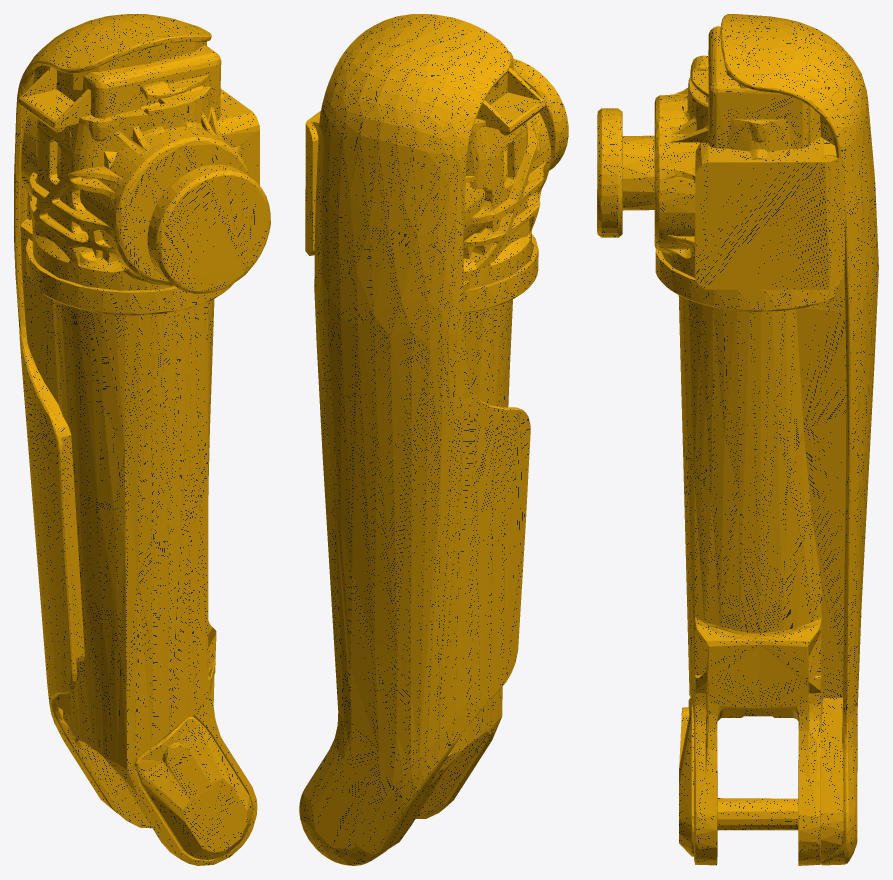
Rendered from rear_left_upper_leg.obj.
3 views of the same model, side by side, from view 1: azimuth 30°, elevation 25°; view 2: azimuth 150°, elevation 25°; view 3: azimuth 270°, elevation 25° (orthographic). The views are drawn at different scales.
Parts seen in each view (by area): view 1: rear_left_upper_leg; view 2: rear_left_upper_leg; view 3: rear_left_upper_leg.
Boxes of the visible parts, bbox=[...] form: rear_left_upper_leg: bbox=[14, 14, 270, 865]; rear_left_upper_leg: bbox=[299, 14, 568, 865]; rear_left_upper_leg: bbox=[597, 14, 878, 865].
Bounding box in the file's own units: 0.1013 × 0.4185 × 0.1322.
